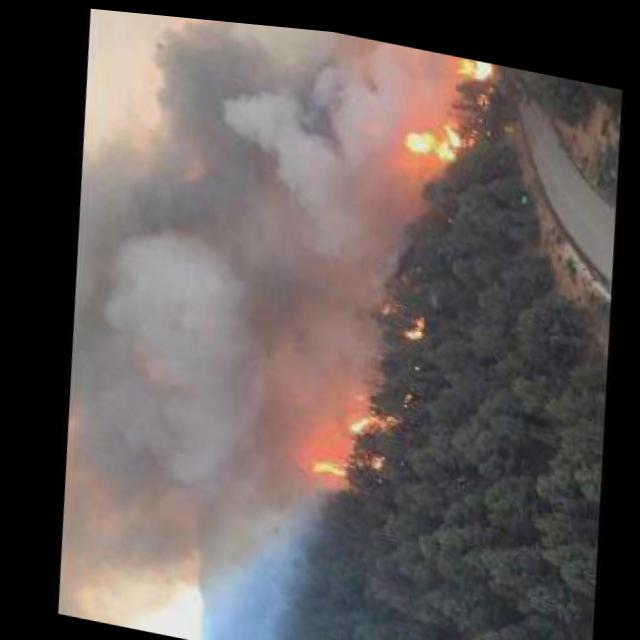Fire: (23, 2, 424, 640), (397, 99, 469, 163), (295, 435, 376, 483), (445, 46, 499, 87), (343, 403, 388, 434), (400, 303, 423, 337)
